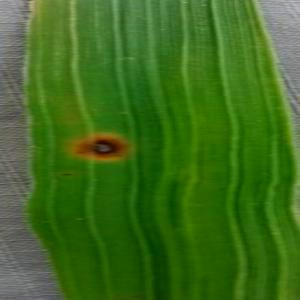0 BrownSpot: (65, 129, 133, 166), (57, 170, 76, 181)
